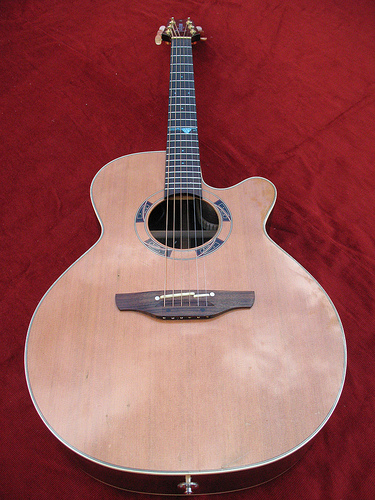guitar: (23, 12, 348, 487)
